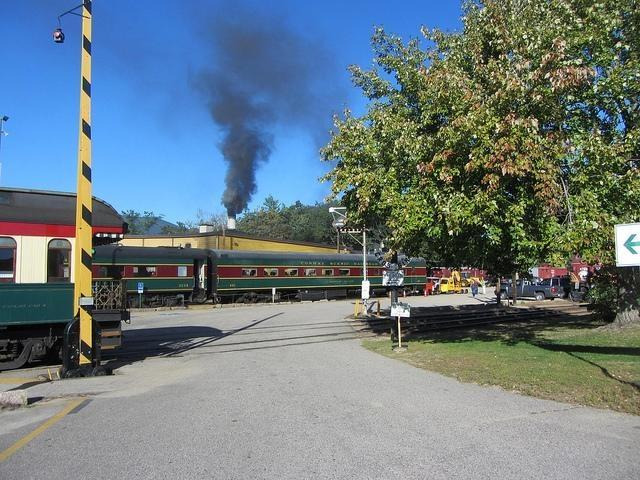car: (538, 278, 571, 296), (422, 277, 440, 297)
truck: (494, 277, 566, 302)
